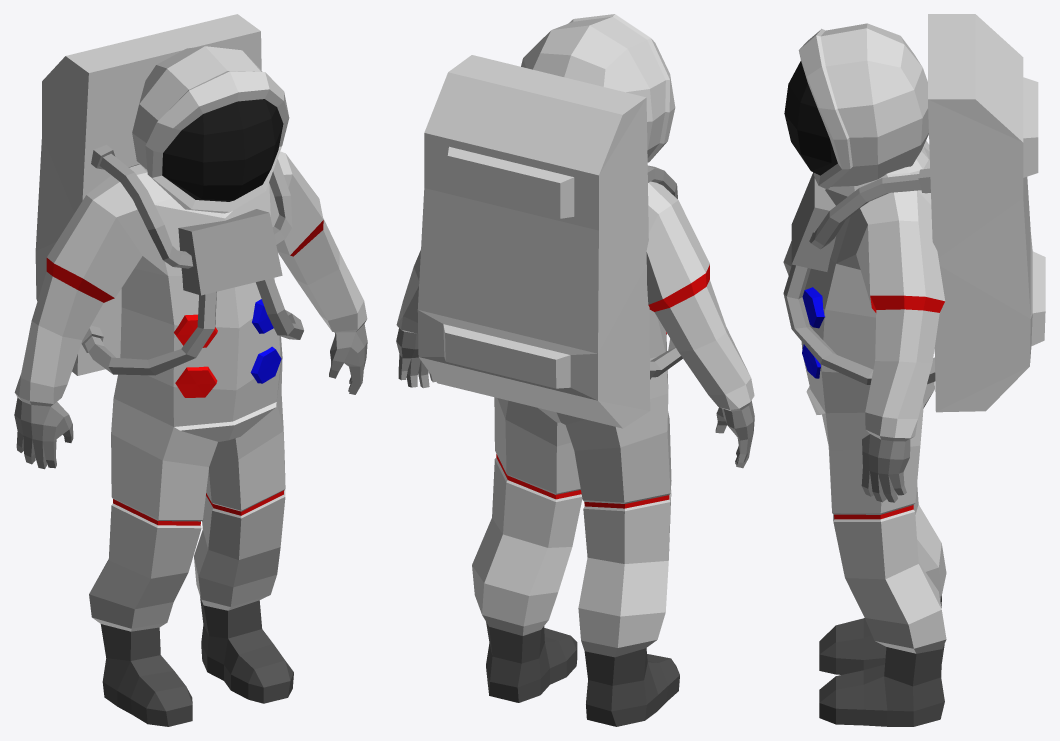
File: Main Actor.FBX
3 views of the same model, side by side, from view 1: azimuth 30°, elevation 25°; view 2: azimuth 150°, elevation 25°; view 3: azimuth 270°, elevation 25° (orthographic).
Parts seen in each view (by area): view 1: Astronaut_mesh; view 2: Astronaut_mesh; view 3: Astronaut_mesh.
Part boxes in pixels (x1,y1,x2,y2): Astronaut_mesh: (14, 14, 367, 726); Astronaut_mesh: (396, 14, 754, 726); Astronaut_mesh: (783, 14, 1045, 726).
Size of the model in its own units: 85.48 by 55.24 by 154.
